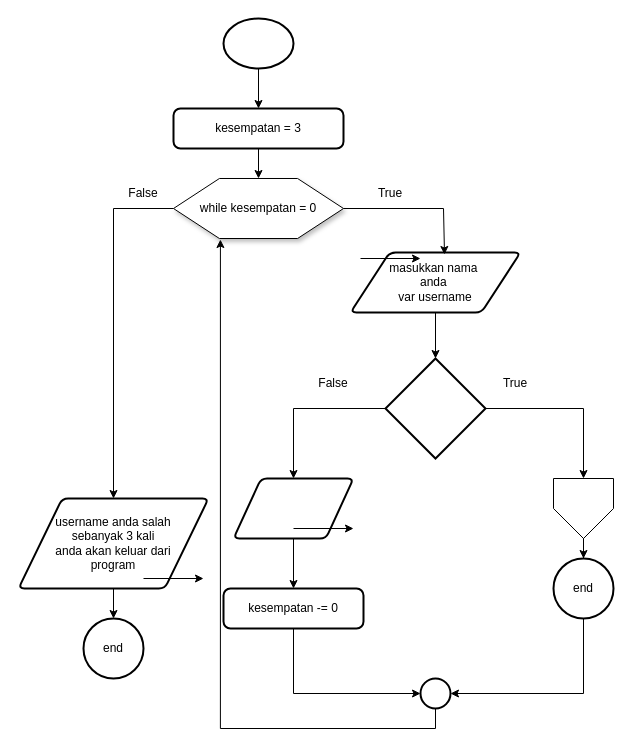
The diagram is 631 pixels wide and 754 high, and some of its shapes have lost their labels. The centre of each missing label's shape, as x and y in pixels:
start: point 258,43
username == "santoso": point 435,408
username anda salah !: point 293,508
